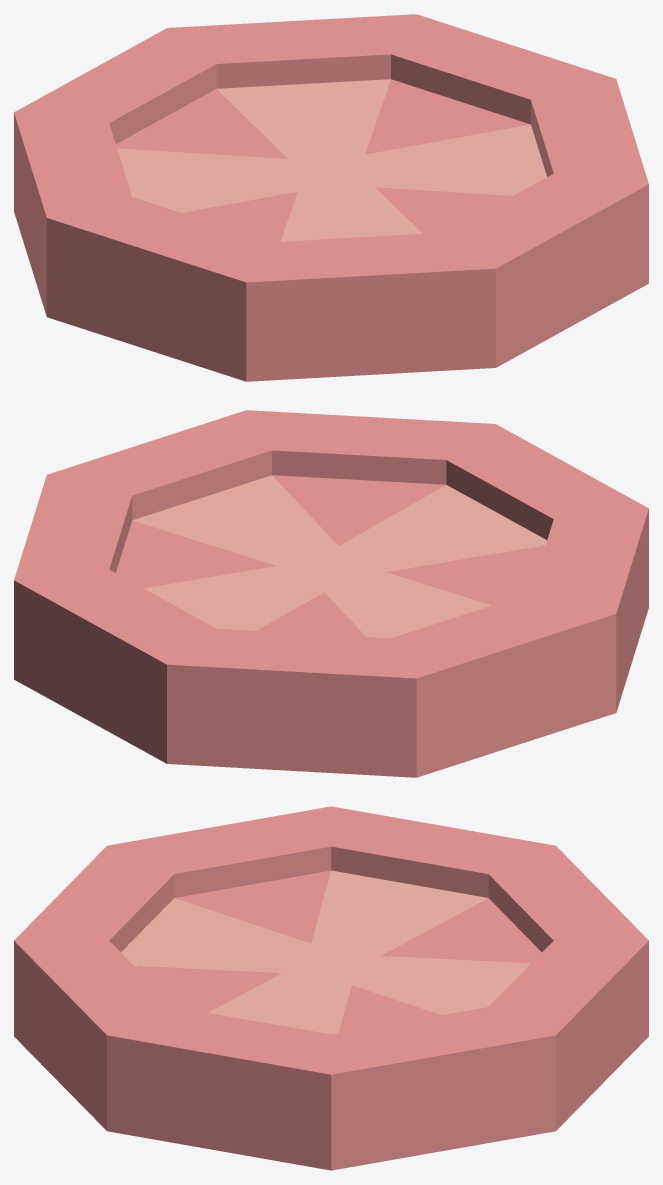
3 renders of one model, top to bottom at view 1: azimuth 30°, elevation 25°; view 2: azimuth 150°, elevation 25°; view 3: azimuth 270°, elevation 25°, orthographic. The views are drawn at different scales.
Visible parts, largest first — view 1: tomatoSlice; view 2: tomatoSlice; view 3: tomatoSlice.
Boxes of the visible parts, bbox=[...] form: tomatoSlice: bbox=[14, 14, 648, 381]; tomatoSlice: bbox=[14, 410, 648, 777]; tomatoSlice: bbox=[14, 806, 648, 1170].
Bounding box in the file's own units: 0.18 × 0.03 × 0.18.
